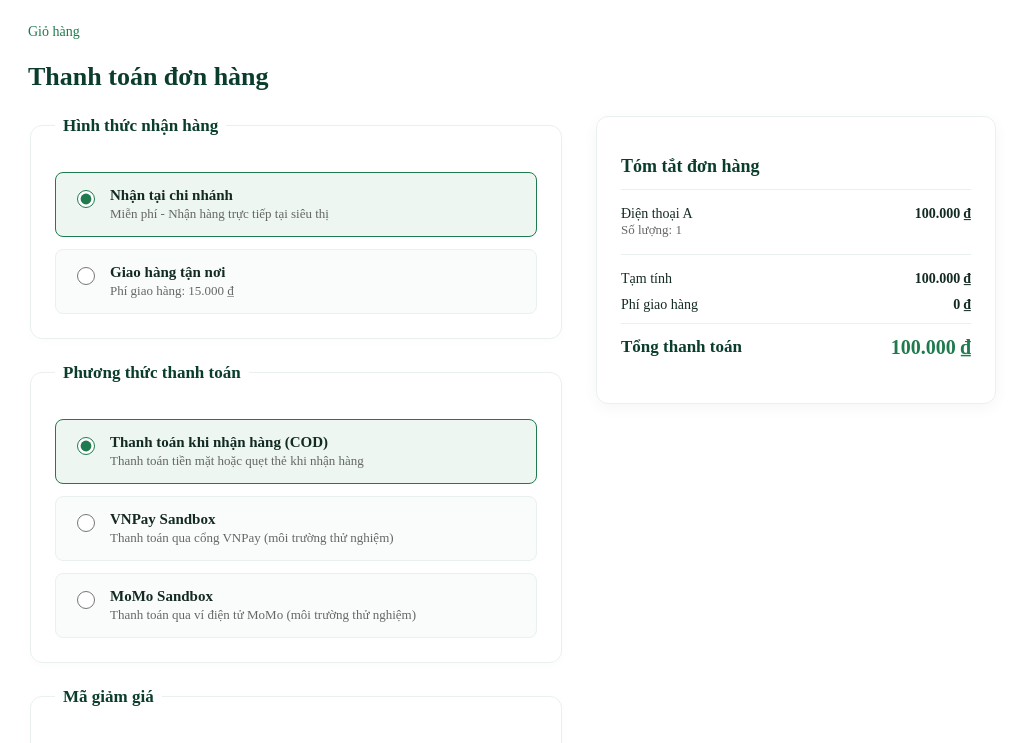
Test case: CheckoutPage › blocks delivery submission when recipient data is missing
Click the radio button labelled "Giao hàng tận nơi Phí giao hàng: 15.000 ₫": (86, 276) [77,267,95,285]
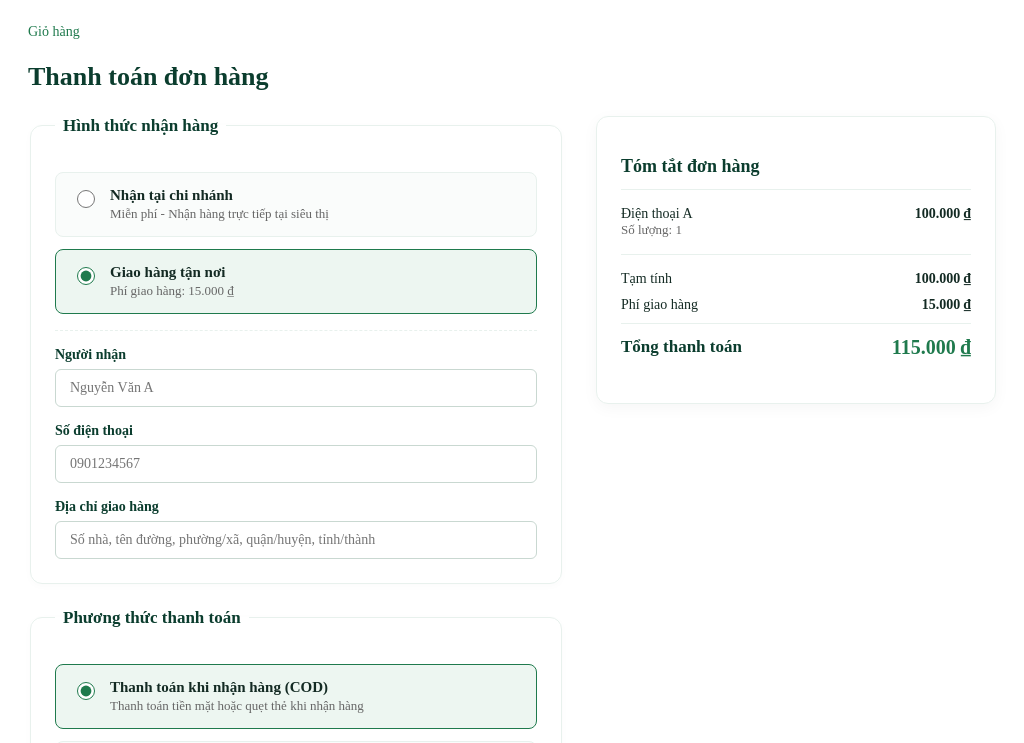
Clear the field labelled "Người nhận": (296, 388) [55,369,537,407]
(page scrolled)
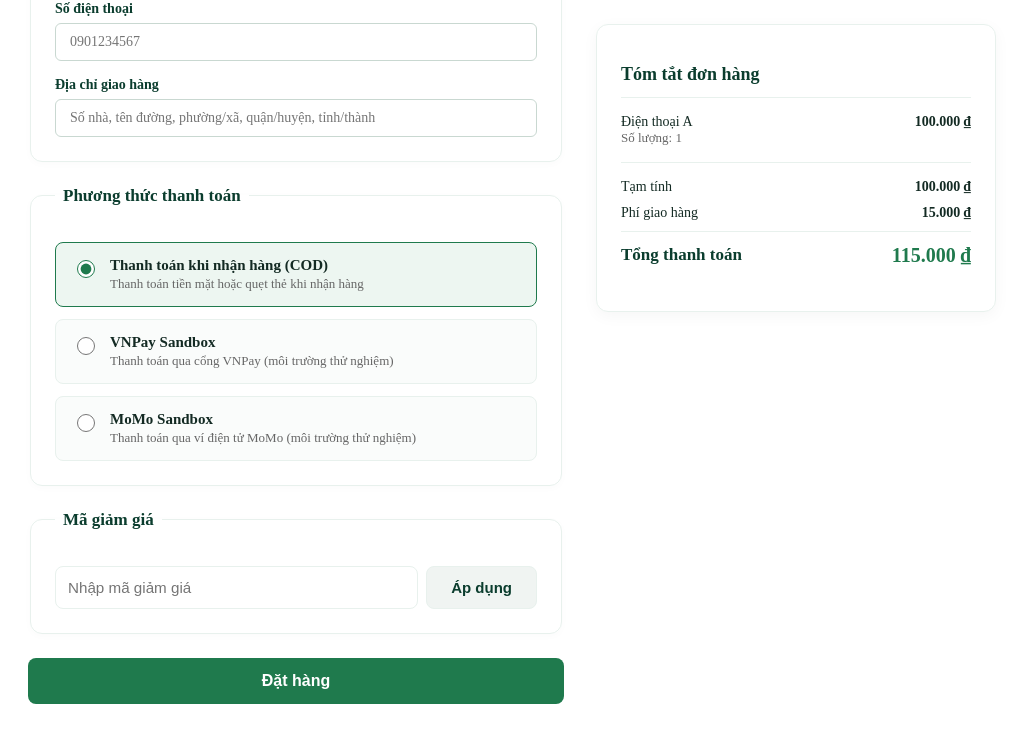
Click the button "Đặt hàng": (296, 681) [28,658,564,704]
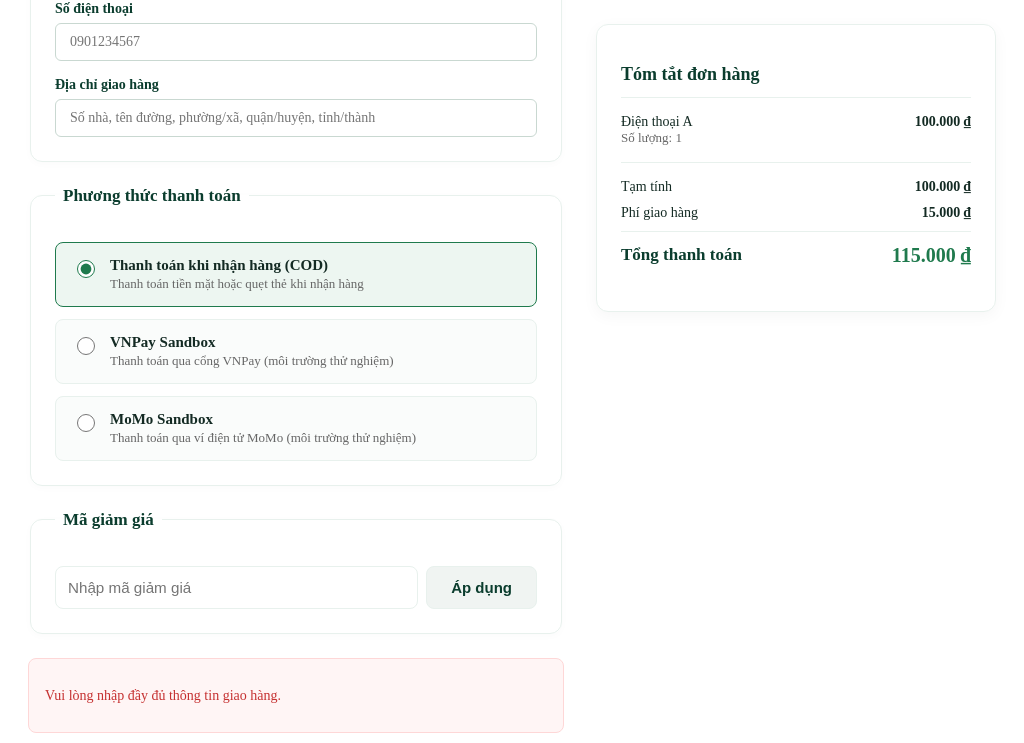
Expected: the message reads "Vui lòng nhập đầy đủ thông tin giao hàng.", [45,688,281,703]
